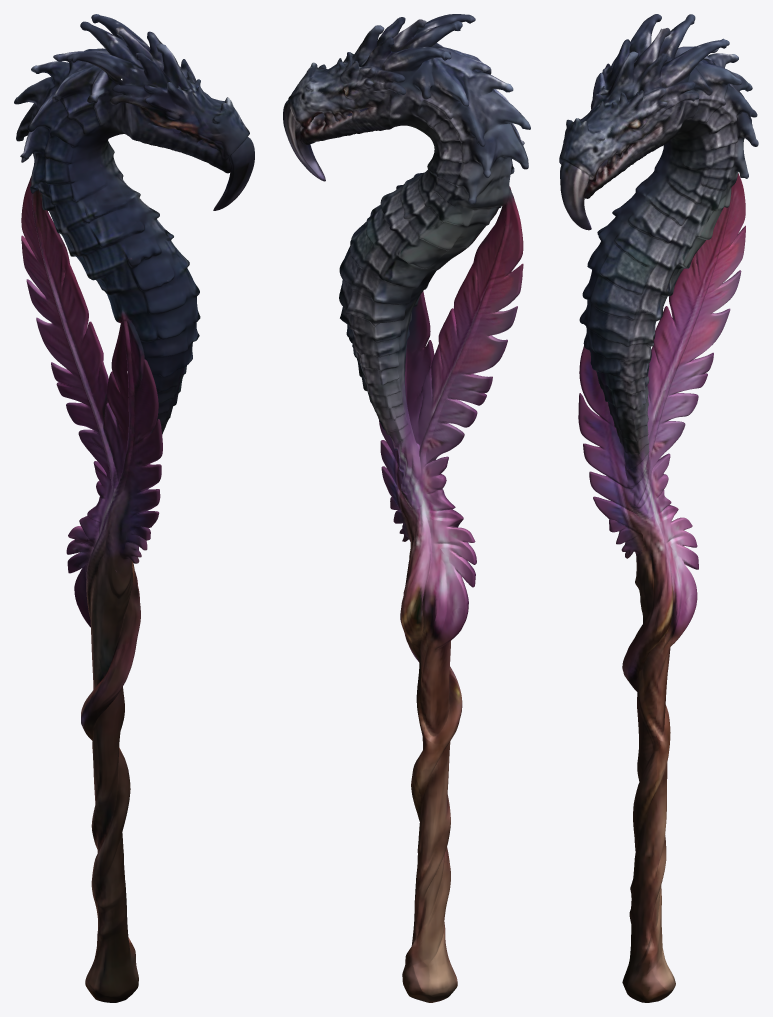
File: staff_fantasy_5.glb
3 views of the same model, side by side, from view 1: azimuth 30°, elevation 25°; view 2: azimuth 210°, elevation 25°; view 3: azimuth 270°, elevation 25° (orthographic). The views are drawn at different scales.
Parts seen in each view (by area): view 1: staff_fantasy_5.glb_5; view 2: staff_fantasy_5.glb_5; view 3: staff_fantasy_5.glb_5.
Part boxes in pixels (left/top/right/bottom): staff_fantasy_5.glb_5: left=14, top=14, right=254, bottom=1002; staff_fantasy_5.glb_5: left=283, top=14, right=530, bottom=1002; staff_fantasy_5.glb_5: left=559, top=14, right=758, bottom=1002.
Size of the model in its own units: 0.3154 by 1.75 by 0.3225.
Materials: 1 (1 with a texture image).
